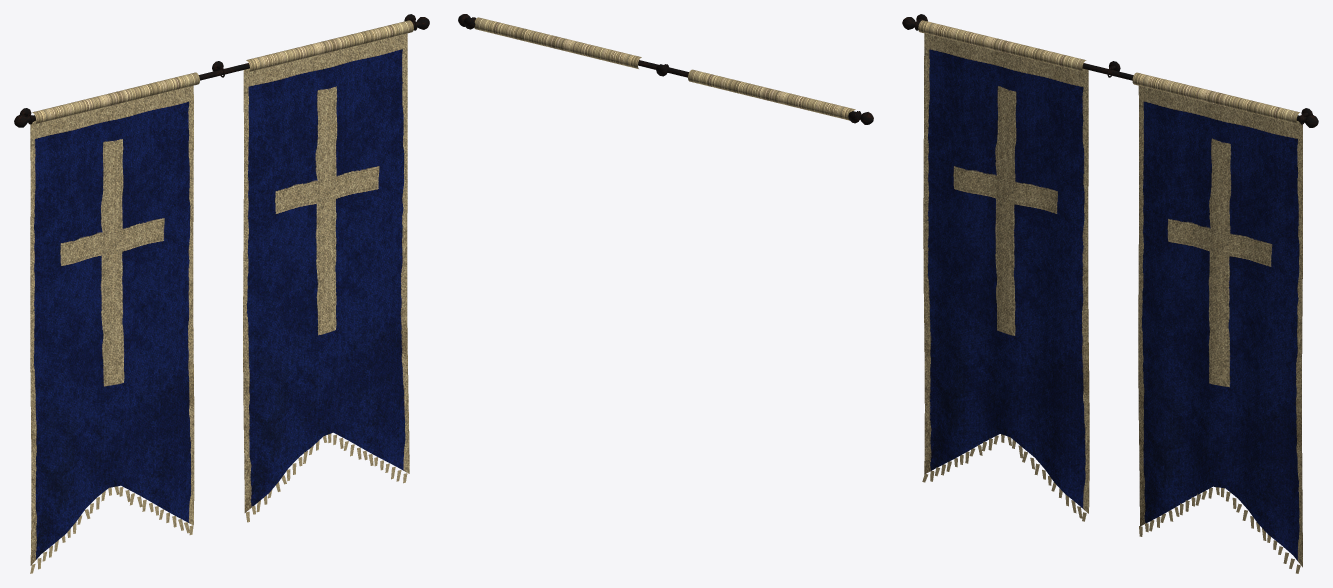
The model's file is wall_banners.glb.
3 renders of one model, left to right at view 1: azimuth 30°, elevation 25°; view 2: azimuth 150°, elevation 25°; view 3: azimuth 330°, elevation 25°, orthographic.
Visible parts, largest first — view 1: wall_banners; view 2: wall_banners; view 3: wall_banners.
Part boxes in pixels (bbox=[...]): wall_banners: bbox=[14, 14, 429, 573]; wall_banners: bbox=[458, 14, 873, 124]; wall_banners: bbox=[902, 14, 1318, 573].
Bounding box in the file's own units: 2.4 × 2.58 × 0.0813.
2 materials, 2 textured.
